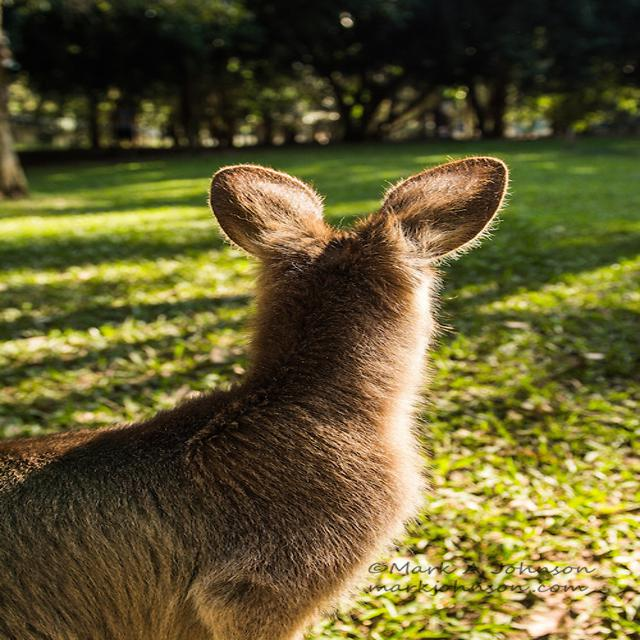kangaroo: (4, 153, 518, 638)
